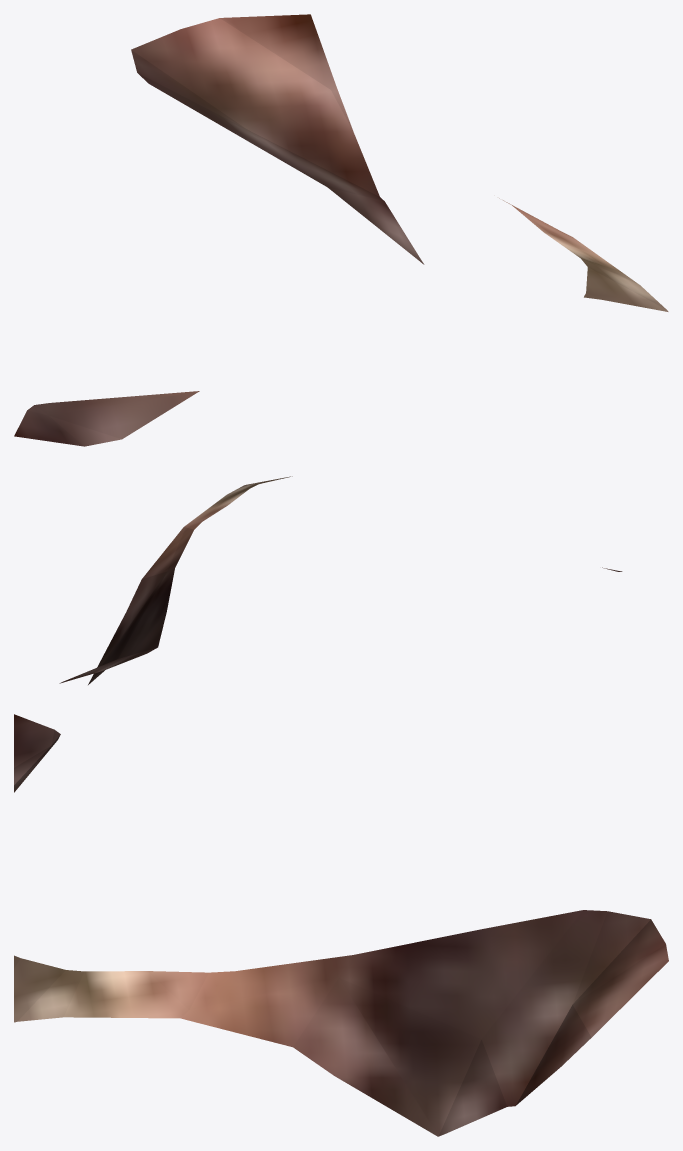
The picture shows the model from 3 angles, top to bottom: view 1: azimuth 30°, elevation 25°; view 2: azimuth 150°, elevation 25°; view 3: azimuth 270°, elevation 25°; orthographic projection. The views are drawn at different scales.
Size of the model in its own units: 0.1665 by 0.0406 by 0.1661.
1 material, 1 textured.
